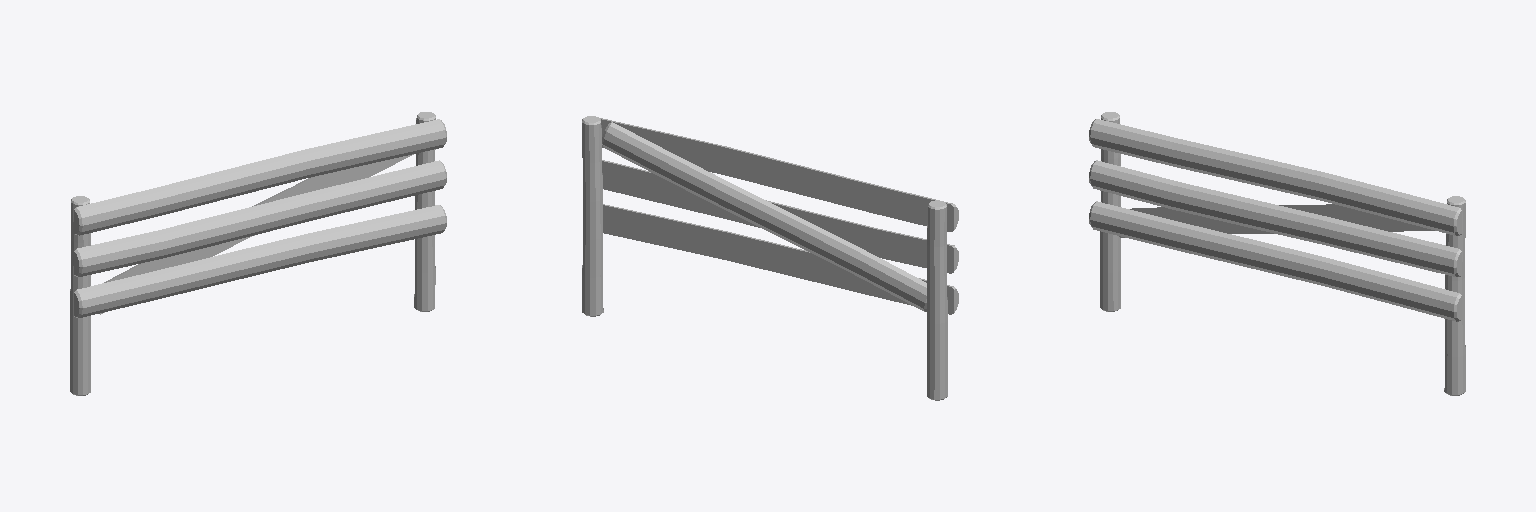
The model's file is fence.obj.
3 renders of one model, left to right at view 1: azimuth 30°, elevation 25°; view 2: azimuth 150°, elevation 25°; view 3: azimuth 330°, elevation 25°, orthographic.
Visible parts, largest first — view 1: Fence_02_GEO, Fence_02_Post_01_GEO, Fence_02_Post_02_GEO; view 2: Fence_02_GEO, Fence_02_Post_01_GEO, Fence_02_Post_02_GEO; view 3: Fence_02_GEO, Fence_02_Post_02_GEO, Fence_02_Post_01_GEO.
Part boxes in pixels (x1,y1,x2,y2): Fence_02_GEO: (74,119,446,317); Fence_02_Post_01_GEO: (70,196,90,395); Fence_02_Post_02_GEO: (414,112,435,311); Fence_02_GEO: (600,118,958,314); Fence_02_Post_01_GEO: (927,200,947,400); Fence_02_Post_02_GEO: (582,116,603,316); Fence_02_GEO: (1089,119,1461,321); Fence_02_Post_02_GEO: (1444,196,1465,395); Fence_02_Post_01_GEO: (1100,112,1120,311).
Size of the model in its own units: 3.99 by 2 by 0.3115.